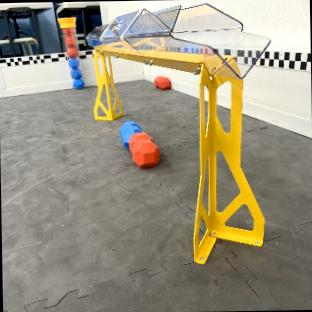Goal: (89, 4, 268, 262)
V5_BLUE: (120, 121, 159, 166)
